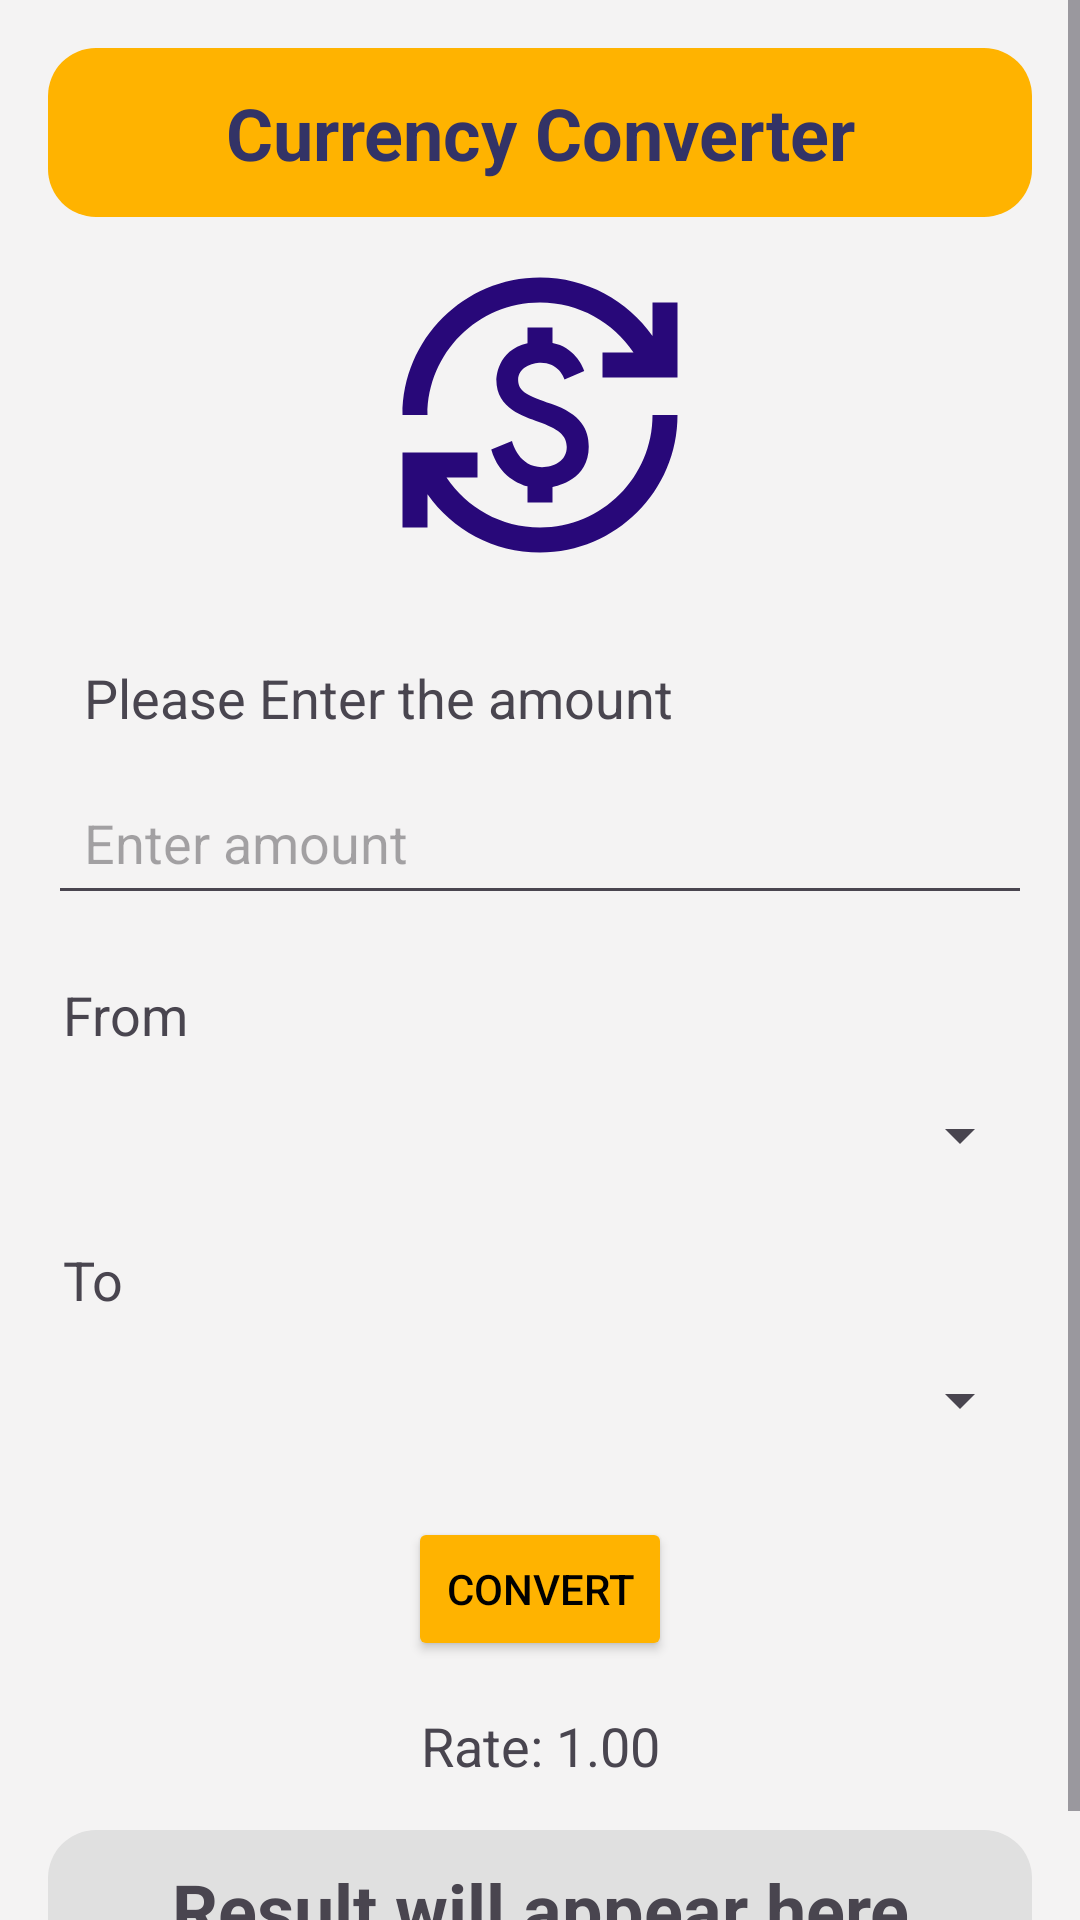

Icon click points for this 1080 × 1920 phone screenshot, format (x=x, y=y):
currency exchange: (x=540, y=415)
